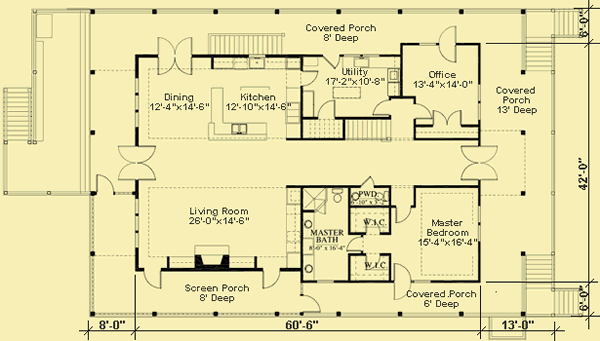door: (153, 54, 194, 80), (135, 144, 159, 181), (115, 144, 137, 183), (477, 143, 498, 183), (155, 37, 193, 57), (459, 145, 479, 181), (430, 110, 464, 128), (93, 173, 117, 197), (144, 266, 164, 292), (391, 263, 414, 284), (315, 99, 339, 118), (437, 24, 457, 46), (260, 269, 280, 289), (437, 44, 458, 63), (302, 294, 321, 315), (301, 68, 320, 88), (370, 99, 392, 116), (322, 52, 342, 70), (393, 206, 412, 224), (344, 236, 362, 255)
kitchen_bar: (207, 85, 272, 143)
large_sink: (330, 186, 344, 203)
small_sink: (302, 252, 316, 280), (303, 210, 315, 238)
stairs: (521, 250, 580, 319), (523, 9, 580, 76), (2, 85, 34, 149), (207, 31, 287, 56), (341, 116, 392, 141)
